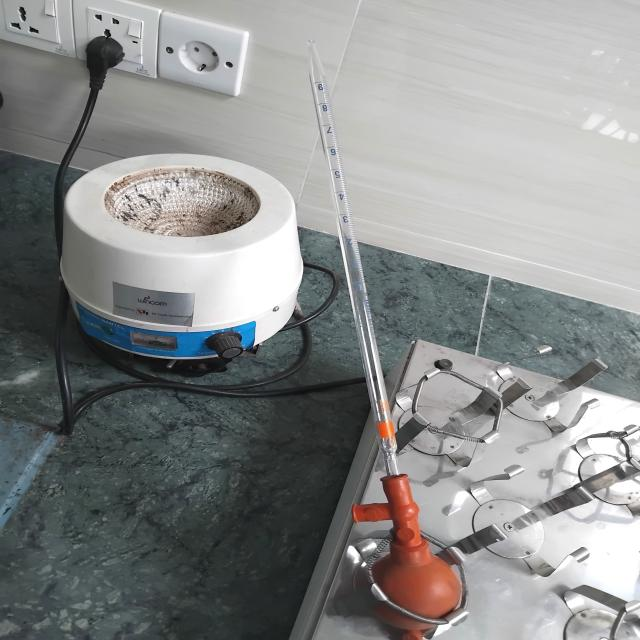Volumetric_Pipet: (264, 33, 495, 635)
